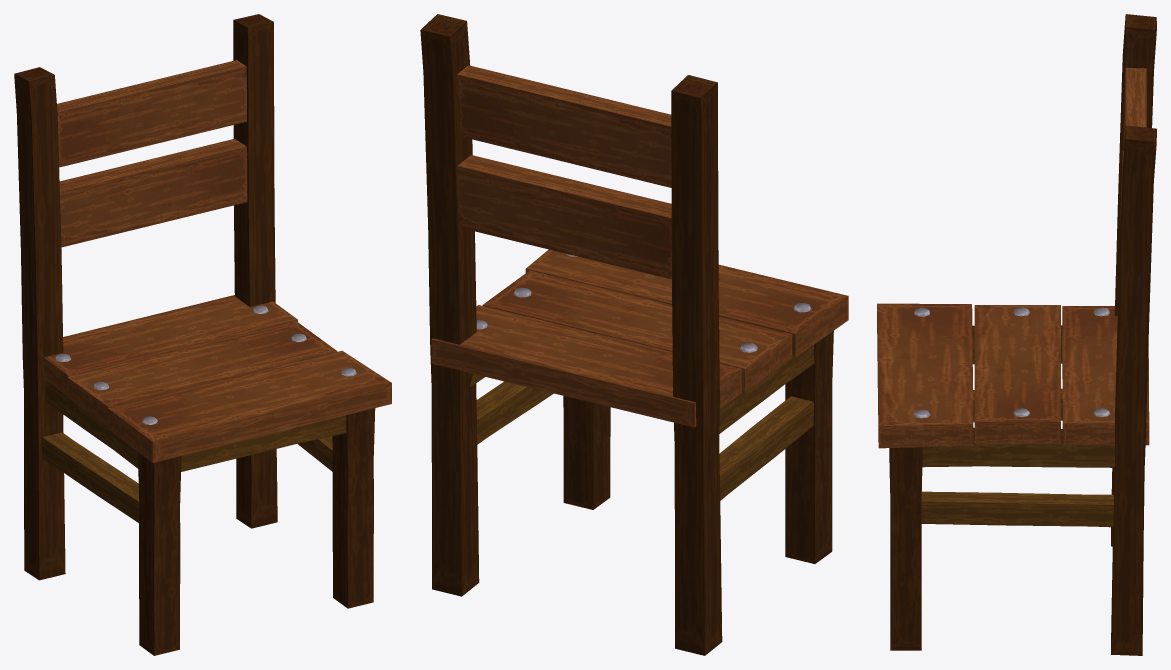
File: chair.glb
3 views of the same model, side by side, from view 1: azimuth 30°, elevation 25°; view 2: azimuth 150°, elevation 25°; view 3: azimuth 270°, elevation 25° (orthographic). The views are drawn at different scales.
Parts seen in each view (by area): view 1: Chair_1; view 2: Chair_1; view 3: Chair_1.
Boxes of the visible parts, <box> form: Chair_1: <box>14,14,391,655</box>; Chair_1: <box>420,14,848,655</box>; Chair_1: <box>877,14,1156,655</box>.
Size of the model in its own units: 0.5805 by 1.12 by 0.5489.
Materials: 2 (2 with a texture image).
